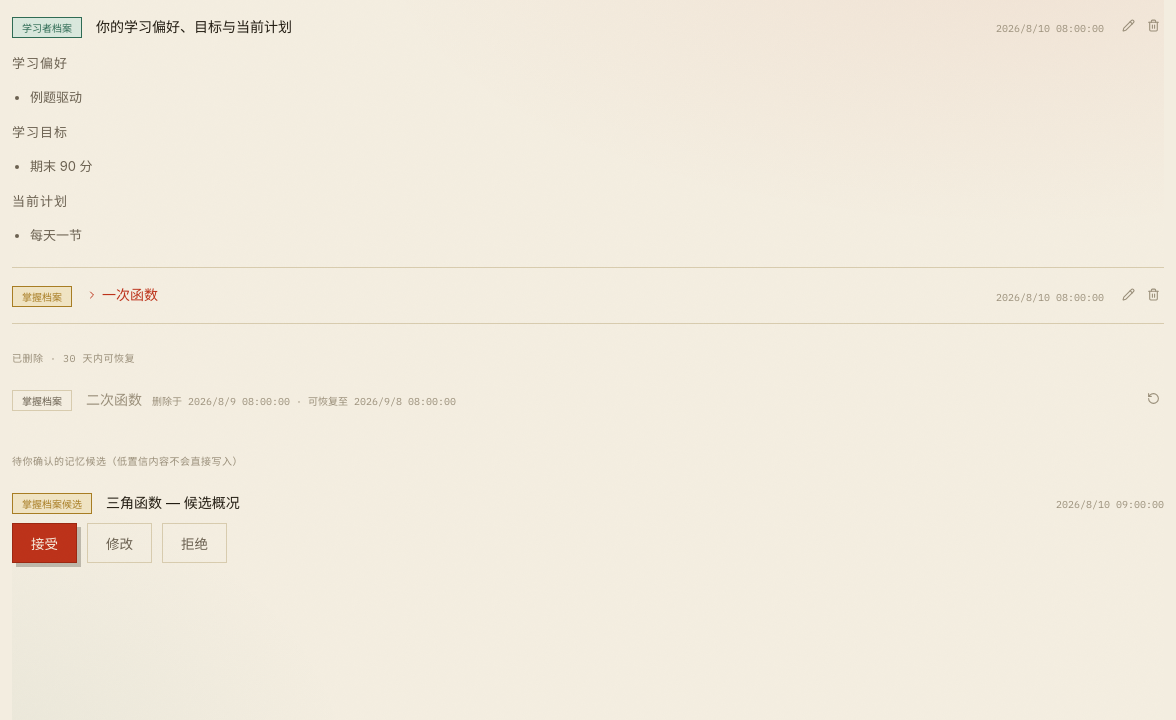
Profile 记忆区域（§20.1） › 展开 mastery 查看结构化内容
Click the button "一次函数" at (130, 295), box [86,283,982,307]
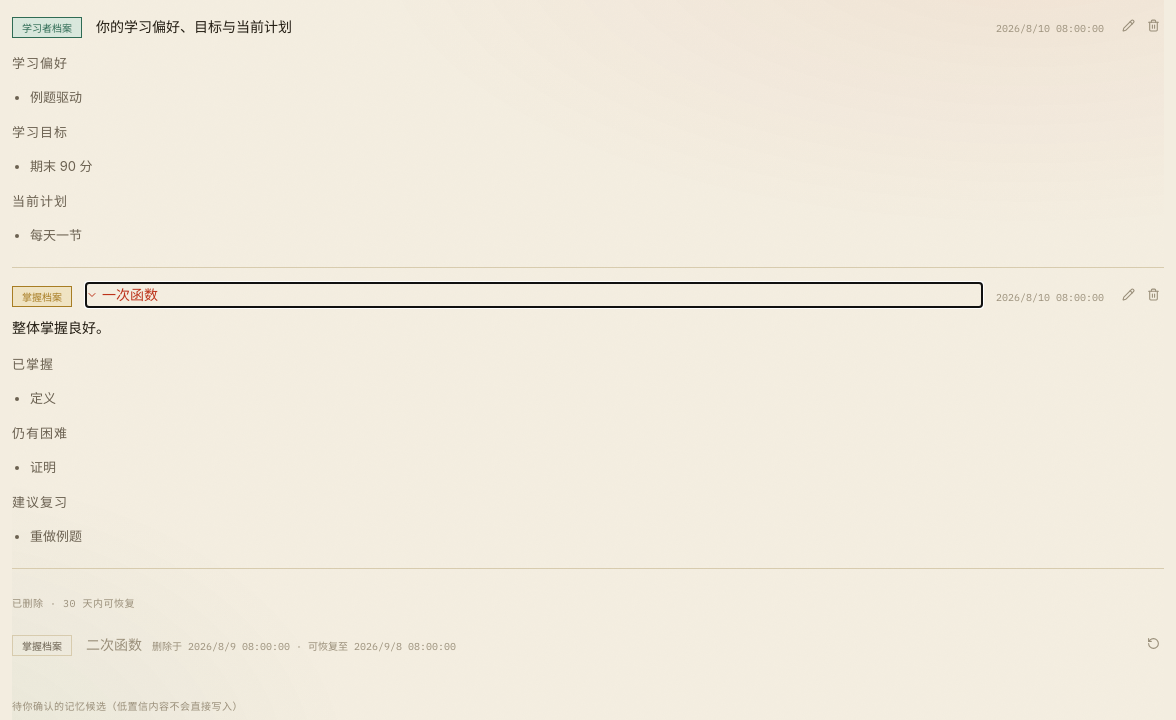
Expected: the text "整体掌握良好。" is shown, [12,319,110,336]
Expected: the list item "重做例题" is shown, [30,528,82,544]
